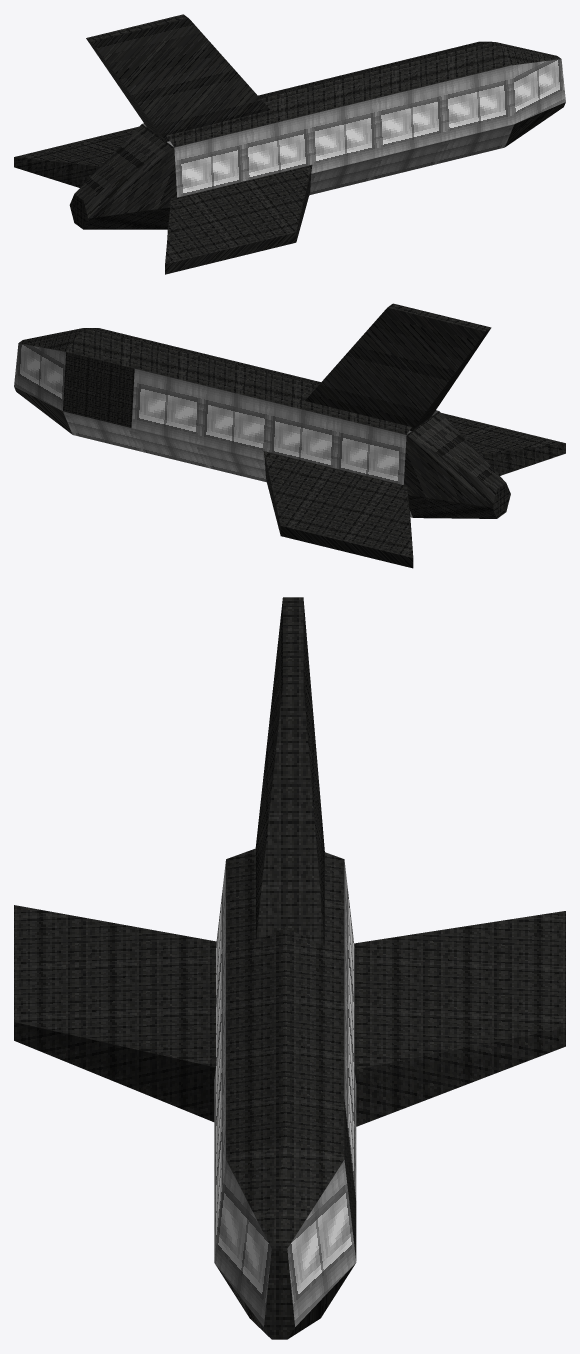
3 renders of one model, top to bottom at view 1: azimuth 30°, elevation 25°; view 2: azimuth 150°, elevation 25°; view 3: azimuth 270°, elevation 25°, orthographic. The views are drawn at different scales.
Visible parts, largest first — view 1: plane2; view 2: plane2; view 3: plane2.
Part boxes in pixels (left/top/right/bottom): plane2: left=14, top=14, right=565, bottom=274; plane2: left=14, top=303, right=565, bottom=568; plane2: left=14, top=597, right=565, bottom=1339.
Bounding box in the file's own units: 2.14 × 0.8398 × 1.17.
